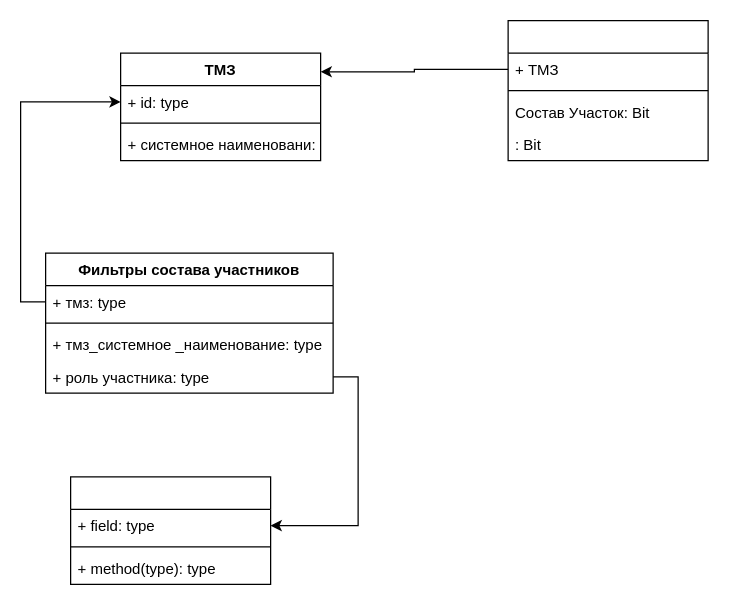
Some shapes in this 729 by 605 pixel diagram are drawn without their labels. Each missing label, with the box of its shape:
Расширенные настройки: (507, 19, 708, 161)
РОль участника: (69, 476, 271, 584)
